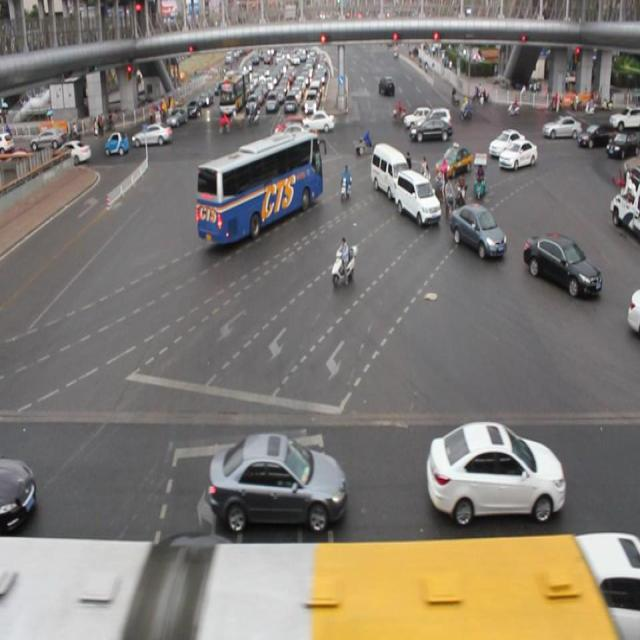car: (124, 523, 264, 624), (426, 417, 563, 519), (209, 436, 346, 530), (561, 526, 640, 628), (524, 228, 600, 296), (447, 200, 505, 260), (1, 446, 37, 536), (435, 142, 470, 178), (499, 143, 537, 170), (623, 280, 640, 336), (542, 115, 580, 139), (411, 117, 452, 139), (490, 129, 521, 152), (285, 120, 311, 141), (274, 119, 299, 135)
truck: (396, 171, 440, 225), (370, 140, 408, 198)
van: (1, 533, 610, 640), (196, 129, 323, 251)
